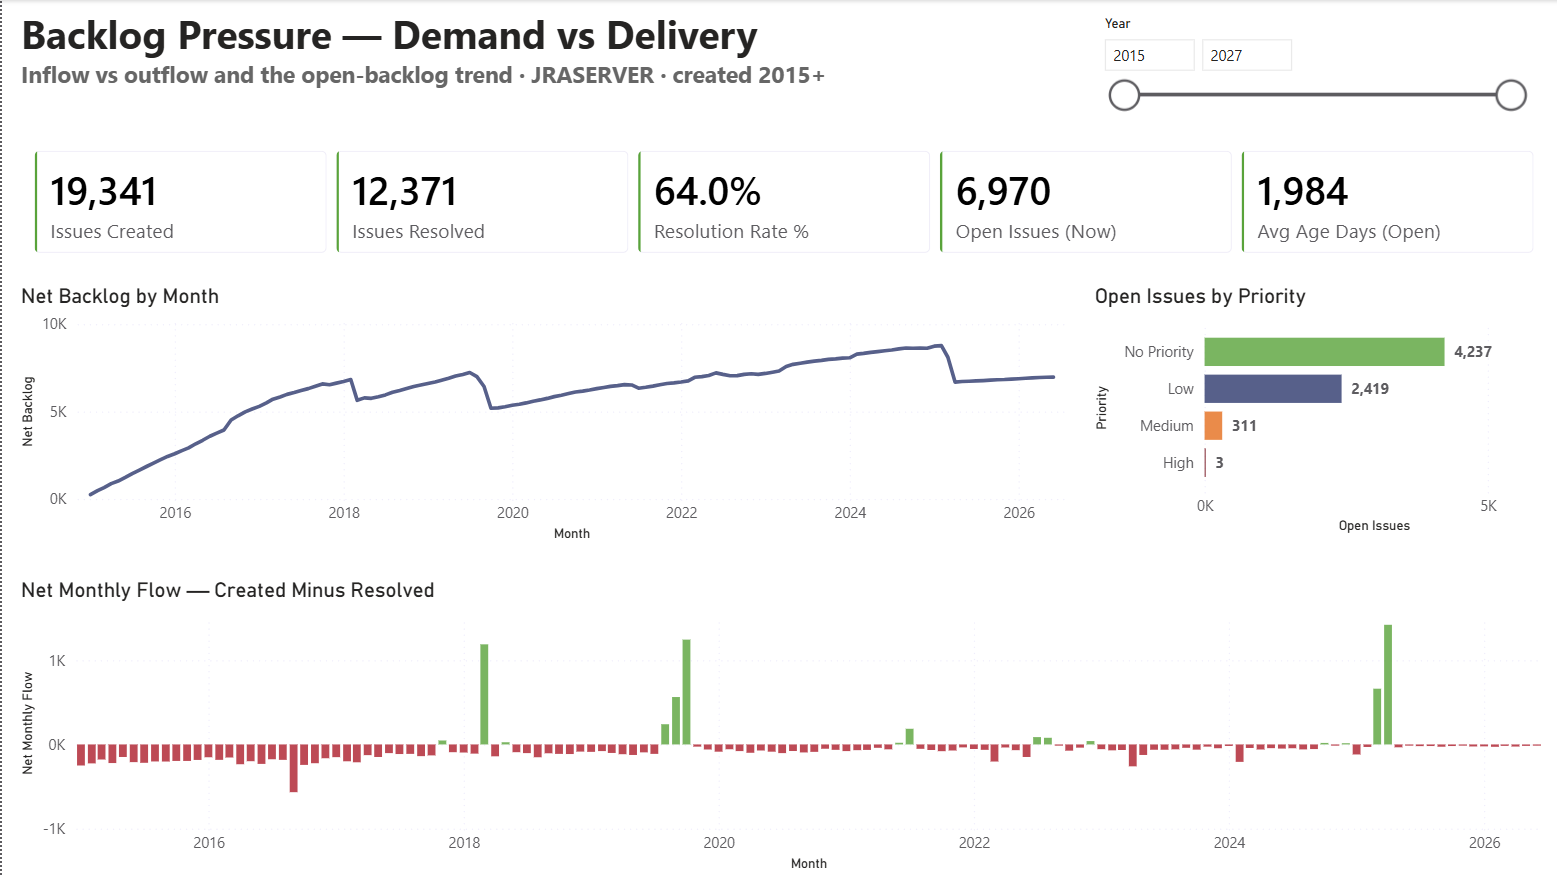

Layout of this report page (visuals, bound fields, positions):
{"tool":"powerbi","page":{"name":"Backlog Pressure","canvas":[1280,720],"ordinal":0},"visuals":[{"type":"textbox","box":[10.7,0,706,97.8],"z":0},{"type":"cardVisual","fields":{"Data":["_Measures.Issues Created","_Measures.Issues Resolved","_Measures.Resolution Rate %","_Measures.Open Issues (Now)","_Measures.Avg Age Days (Open)"]},"box":[9.6,107.1,1270.4,118.4],"z":1000},{"type":"lineChart","title":"Net Backlog by Month","fields":{"Category":["pbi vw_dim_date.month_start_date"],"Y":["_Measures.Net Backlog"]},"box":[10.6,233.3,871.5,215.7],"z":2000},{"type":"clusteredColumnChart","title":"Net Monthly Flow — Created Minus Resolved","fields":{"Category":["pbi vw_dim_date.month_start_date"],"Y":["_Measures.Net Monthly Flow"]},"box":[10.7,475.1,1270,245],"z":3000},{"type":"slicer","fields":{"Values":["pbi vw_dim_date.calendar_year"]},"box":[893.4,7.8,367.5,89.7],"z":4000},{"type":"clusteredBarChart","title":"Open Issues by Priority","fields":{"Category":["pbi vw_backlog_flow.priority_name"],"Y":["_Measures.Open Issues (Now)"]},"box":[893.4,233.4,386.3,209.6],"z":5000}]}

Visuals, with their boxes in screenshot pixels (x1, y1, x2, y2), scaled from the page's 1280x720 canvas onto the 1557x875 screenshot:
textbox: x1=13, y1=0, x2=872, y2=119
cardVisual - _Measures.Issues Created x _Measures.Issues Resolved: x1=12, y1=130, x2=1556, y2=274
"Net Backlog by Month" lineChart: x1=13, y1=284, x2=1073, y2=546
"Net Monthly Flow — Created Minus Resolved" clusteredColumnChart: x1=13, y1=577, x2=1556, y2=874
slicer - pbi vw_dim_date.calendar_year: x1=1087, y1=9, x2=1534, y2=118
"Open Issues by Priority" clusteredBarChart: x1=1087, y1=284, x2=1556, y2=538
